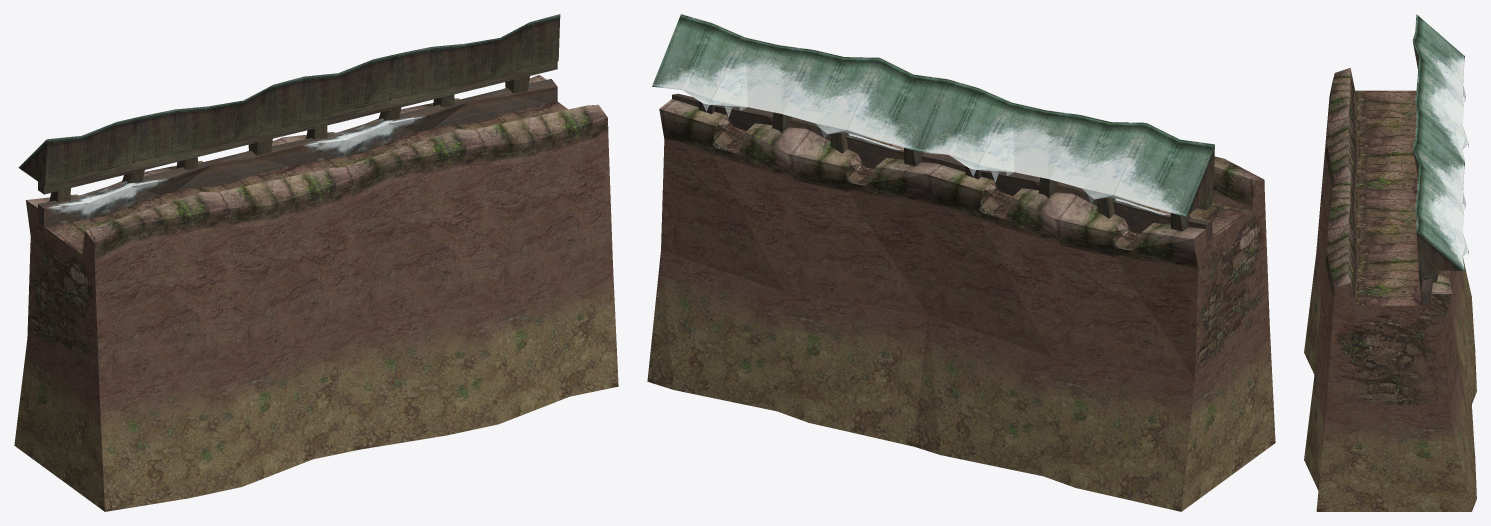
The model's file is C1SMWA20SNH.obj.
3 renders of one model, left to right at view 1: azimuth 30°, elevation 25°; view 2: azimuth 150°, elevation 25°; view 3: azimuth 270°, elevation 25°, orthographic. The views are drawn at different scales.
Parts seen in each view (by area): view 1: Node 0; view 2: Node 0; view 3: Node 0.
Boxes of the visible parts, x1,y1,x2,y2 form: Node 0: (14, 14, 618, 511); Node 0: (647, 14, 1275, 511); Node 0: (1304, 14, 1476, 511).
Bounding box in the file's own units: 20 × 12.54 × 6.8.
Materials: 4 (4 with a texture image).
